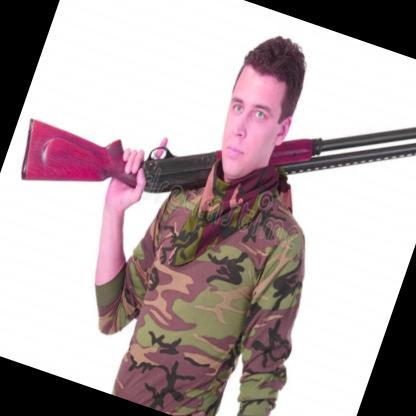rifle: (6, 0, 416, 322)
